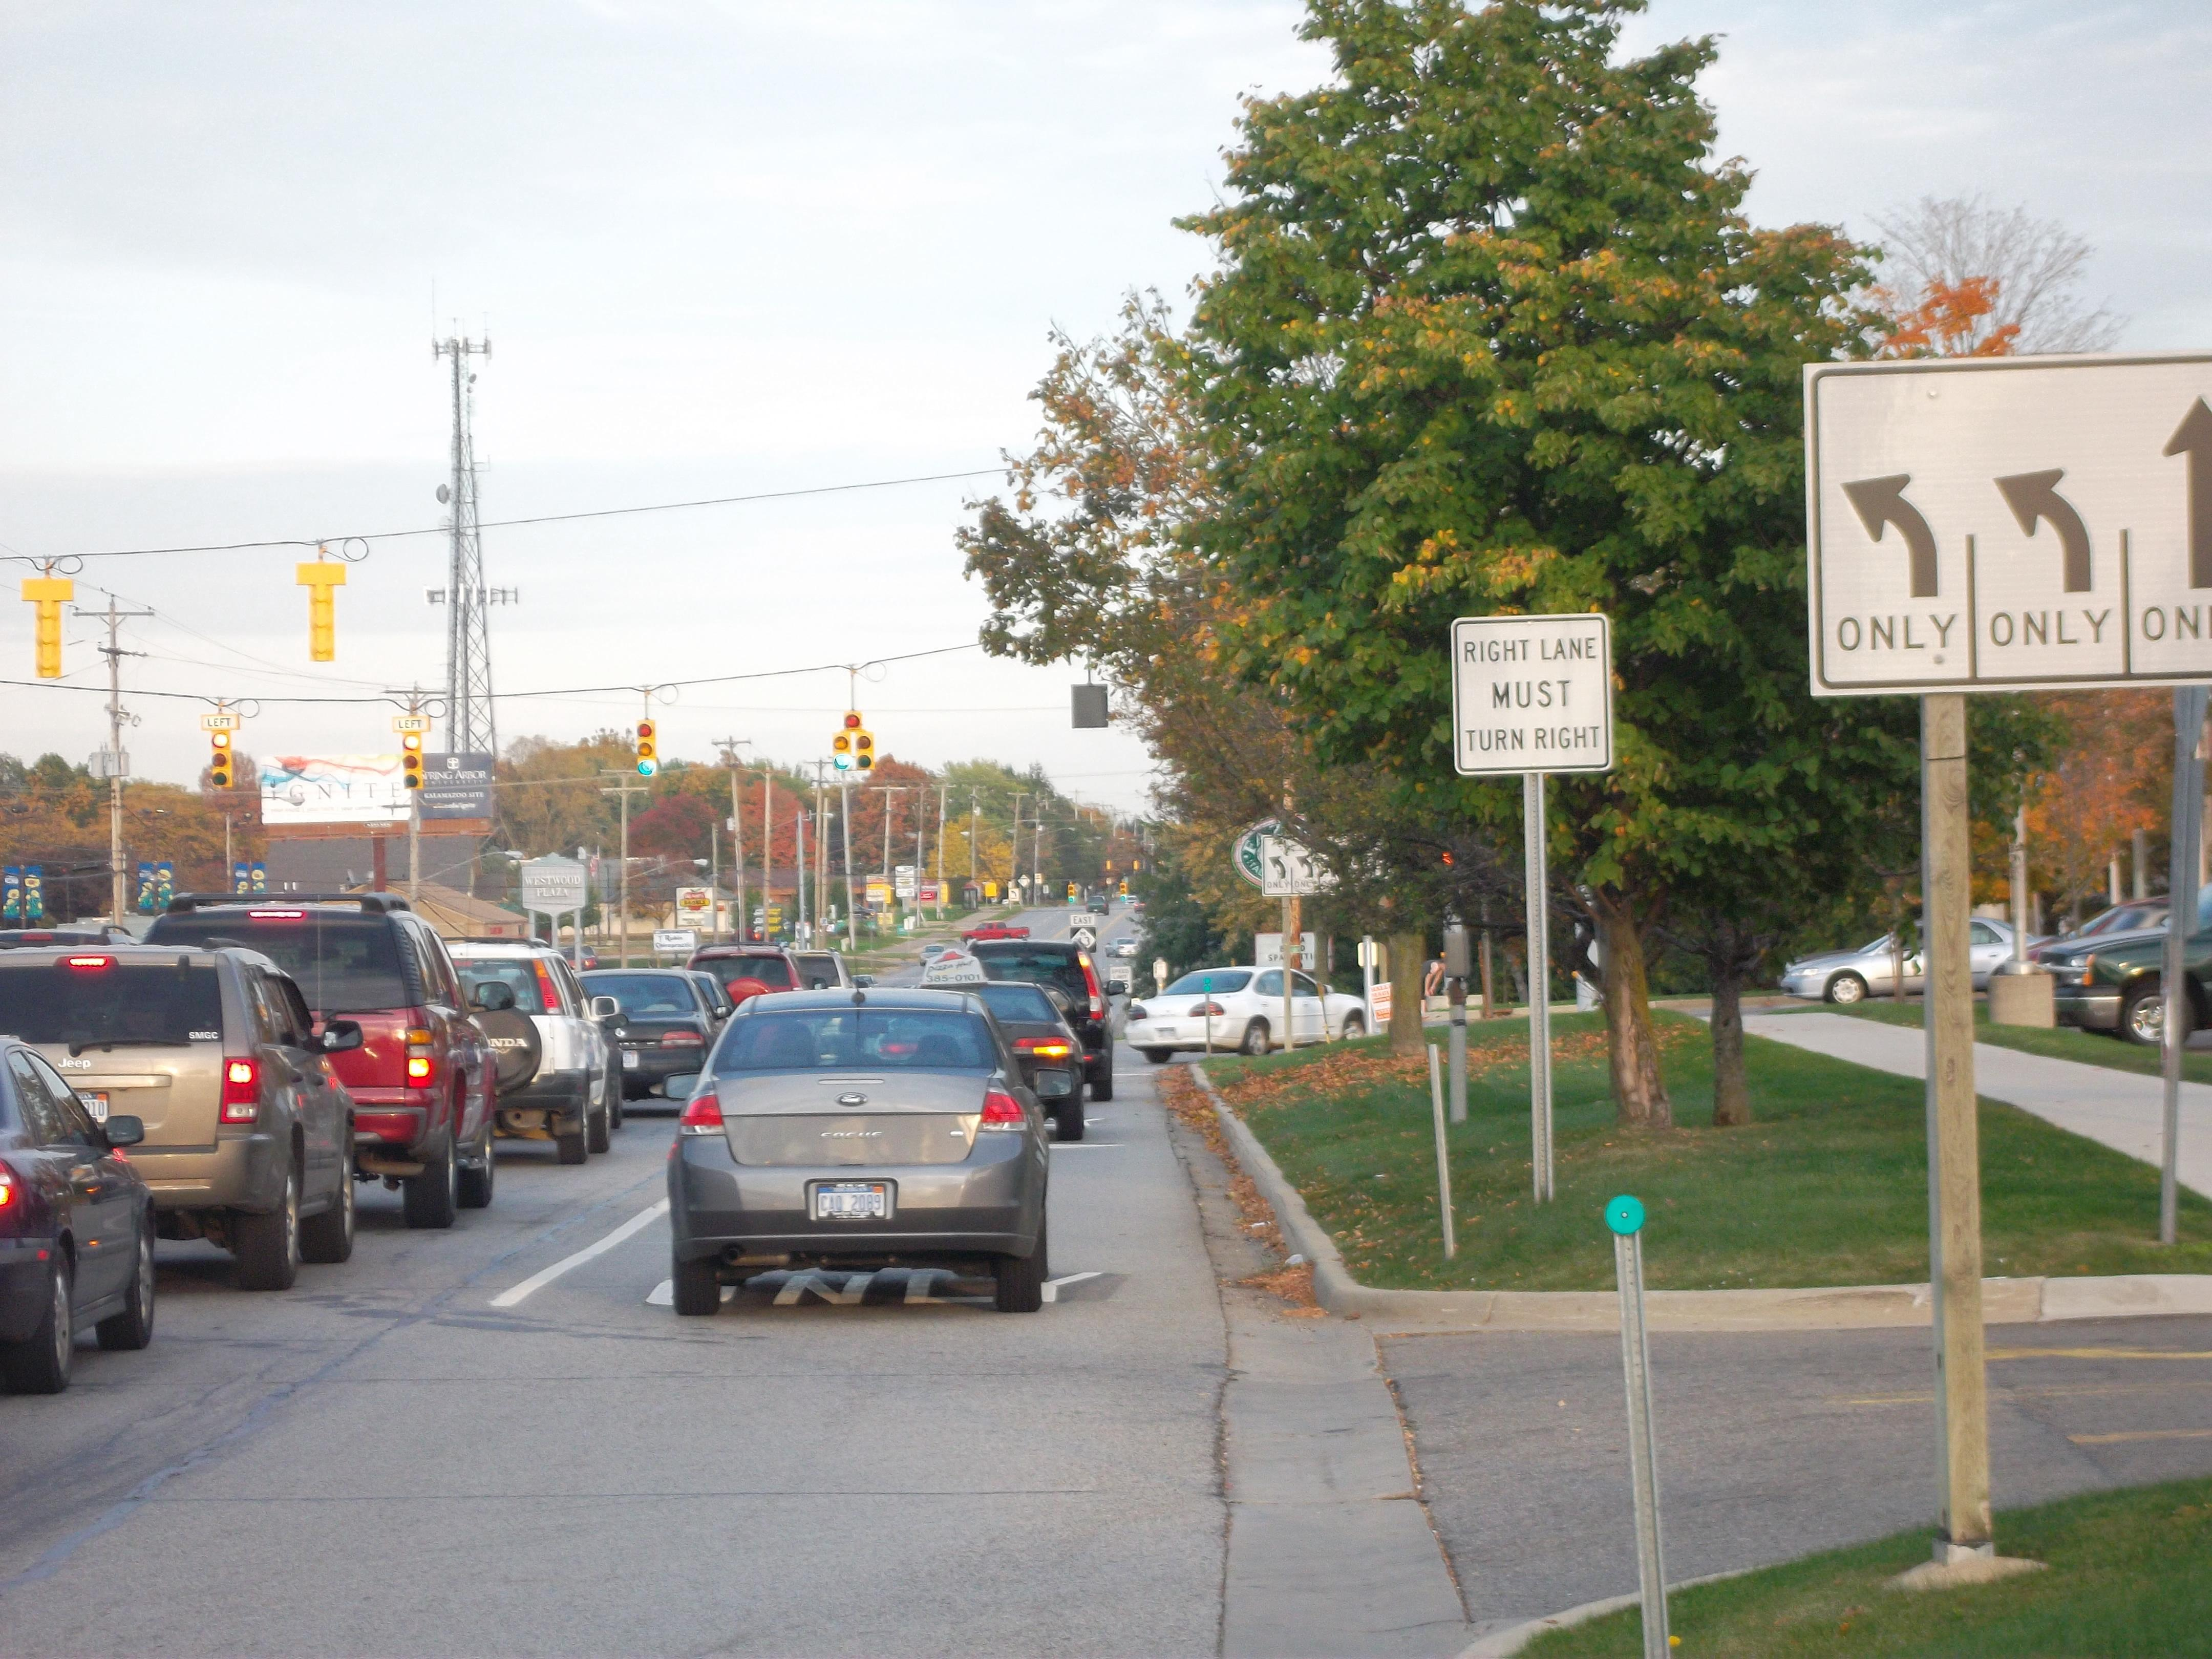regulatory: (1797, 352, 2212, 702), (1447, 612, 1622, 781), (1261, 829, 1393, 896)
